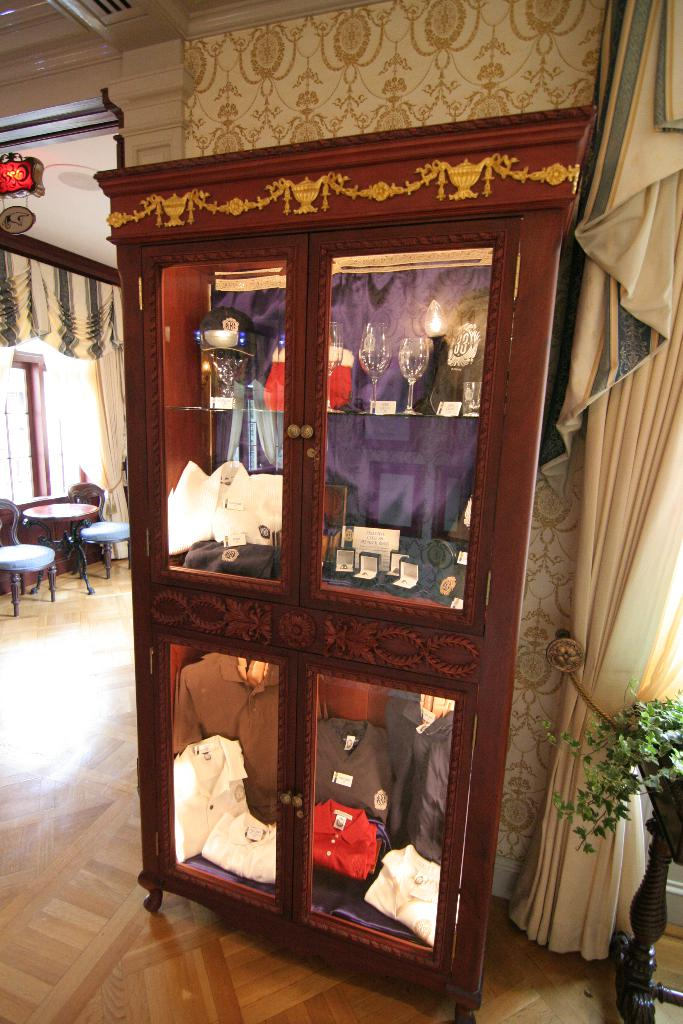Cabinetry: (140, 77, 559, 992)
